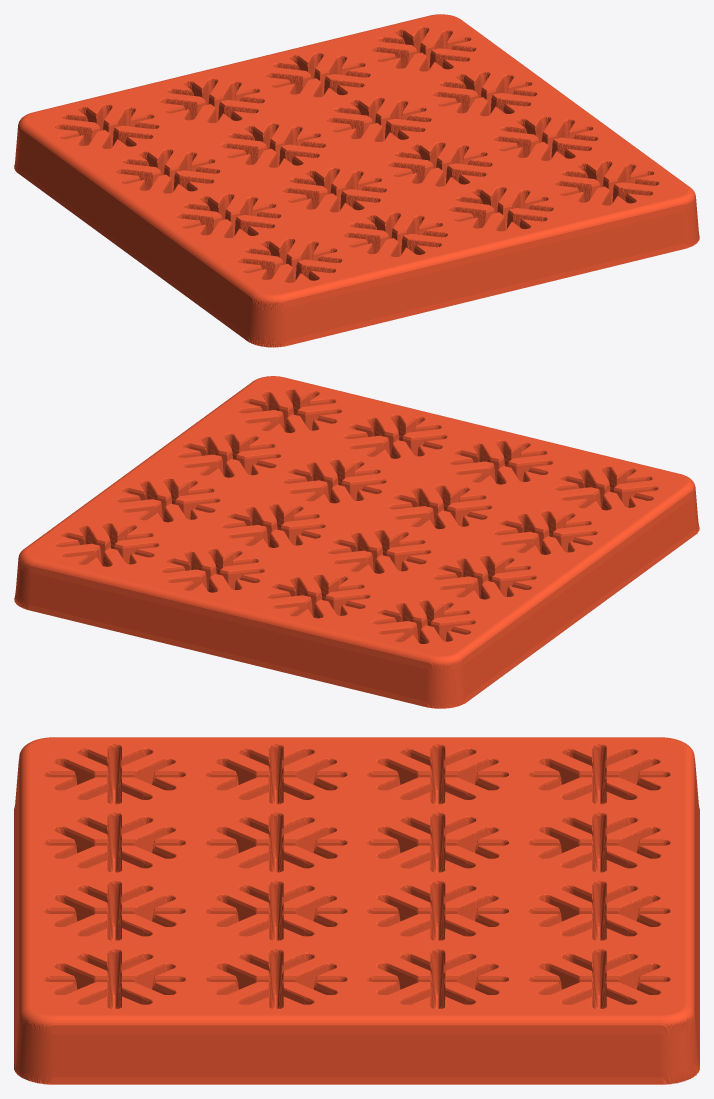
Rendered from mold.glb.
3 renders of one model, top to bottom at view 1: azimuth 30°, elevation 25°; view 2: azimuth 150°, elevation 25°; view 3: azimuth 270°, elevation 25°, orthographic. The views are drawn at different scales.
Parts seen in each view (by area): view 1: geometry_0; view 2: geometry_0; view 3: geometry_0.
Boxes of the visible parts, x1,y1,x2,y2 form: geometry_0: (14, 14, 699, 347); geometry_0: (14, 376, 699, 708); geometry_0: (14, 737, 699, 1084).
Size of the model in its own units: 0.1569 by 0.0159 by 0.1569.
